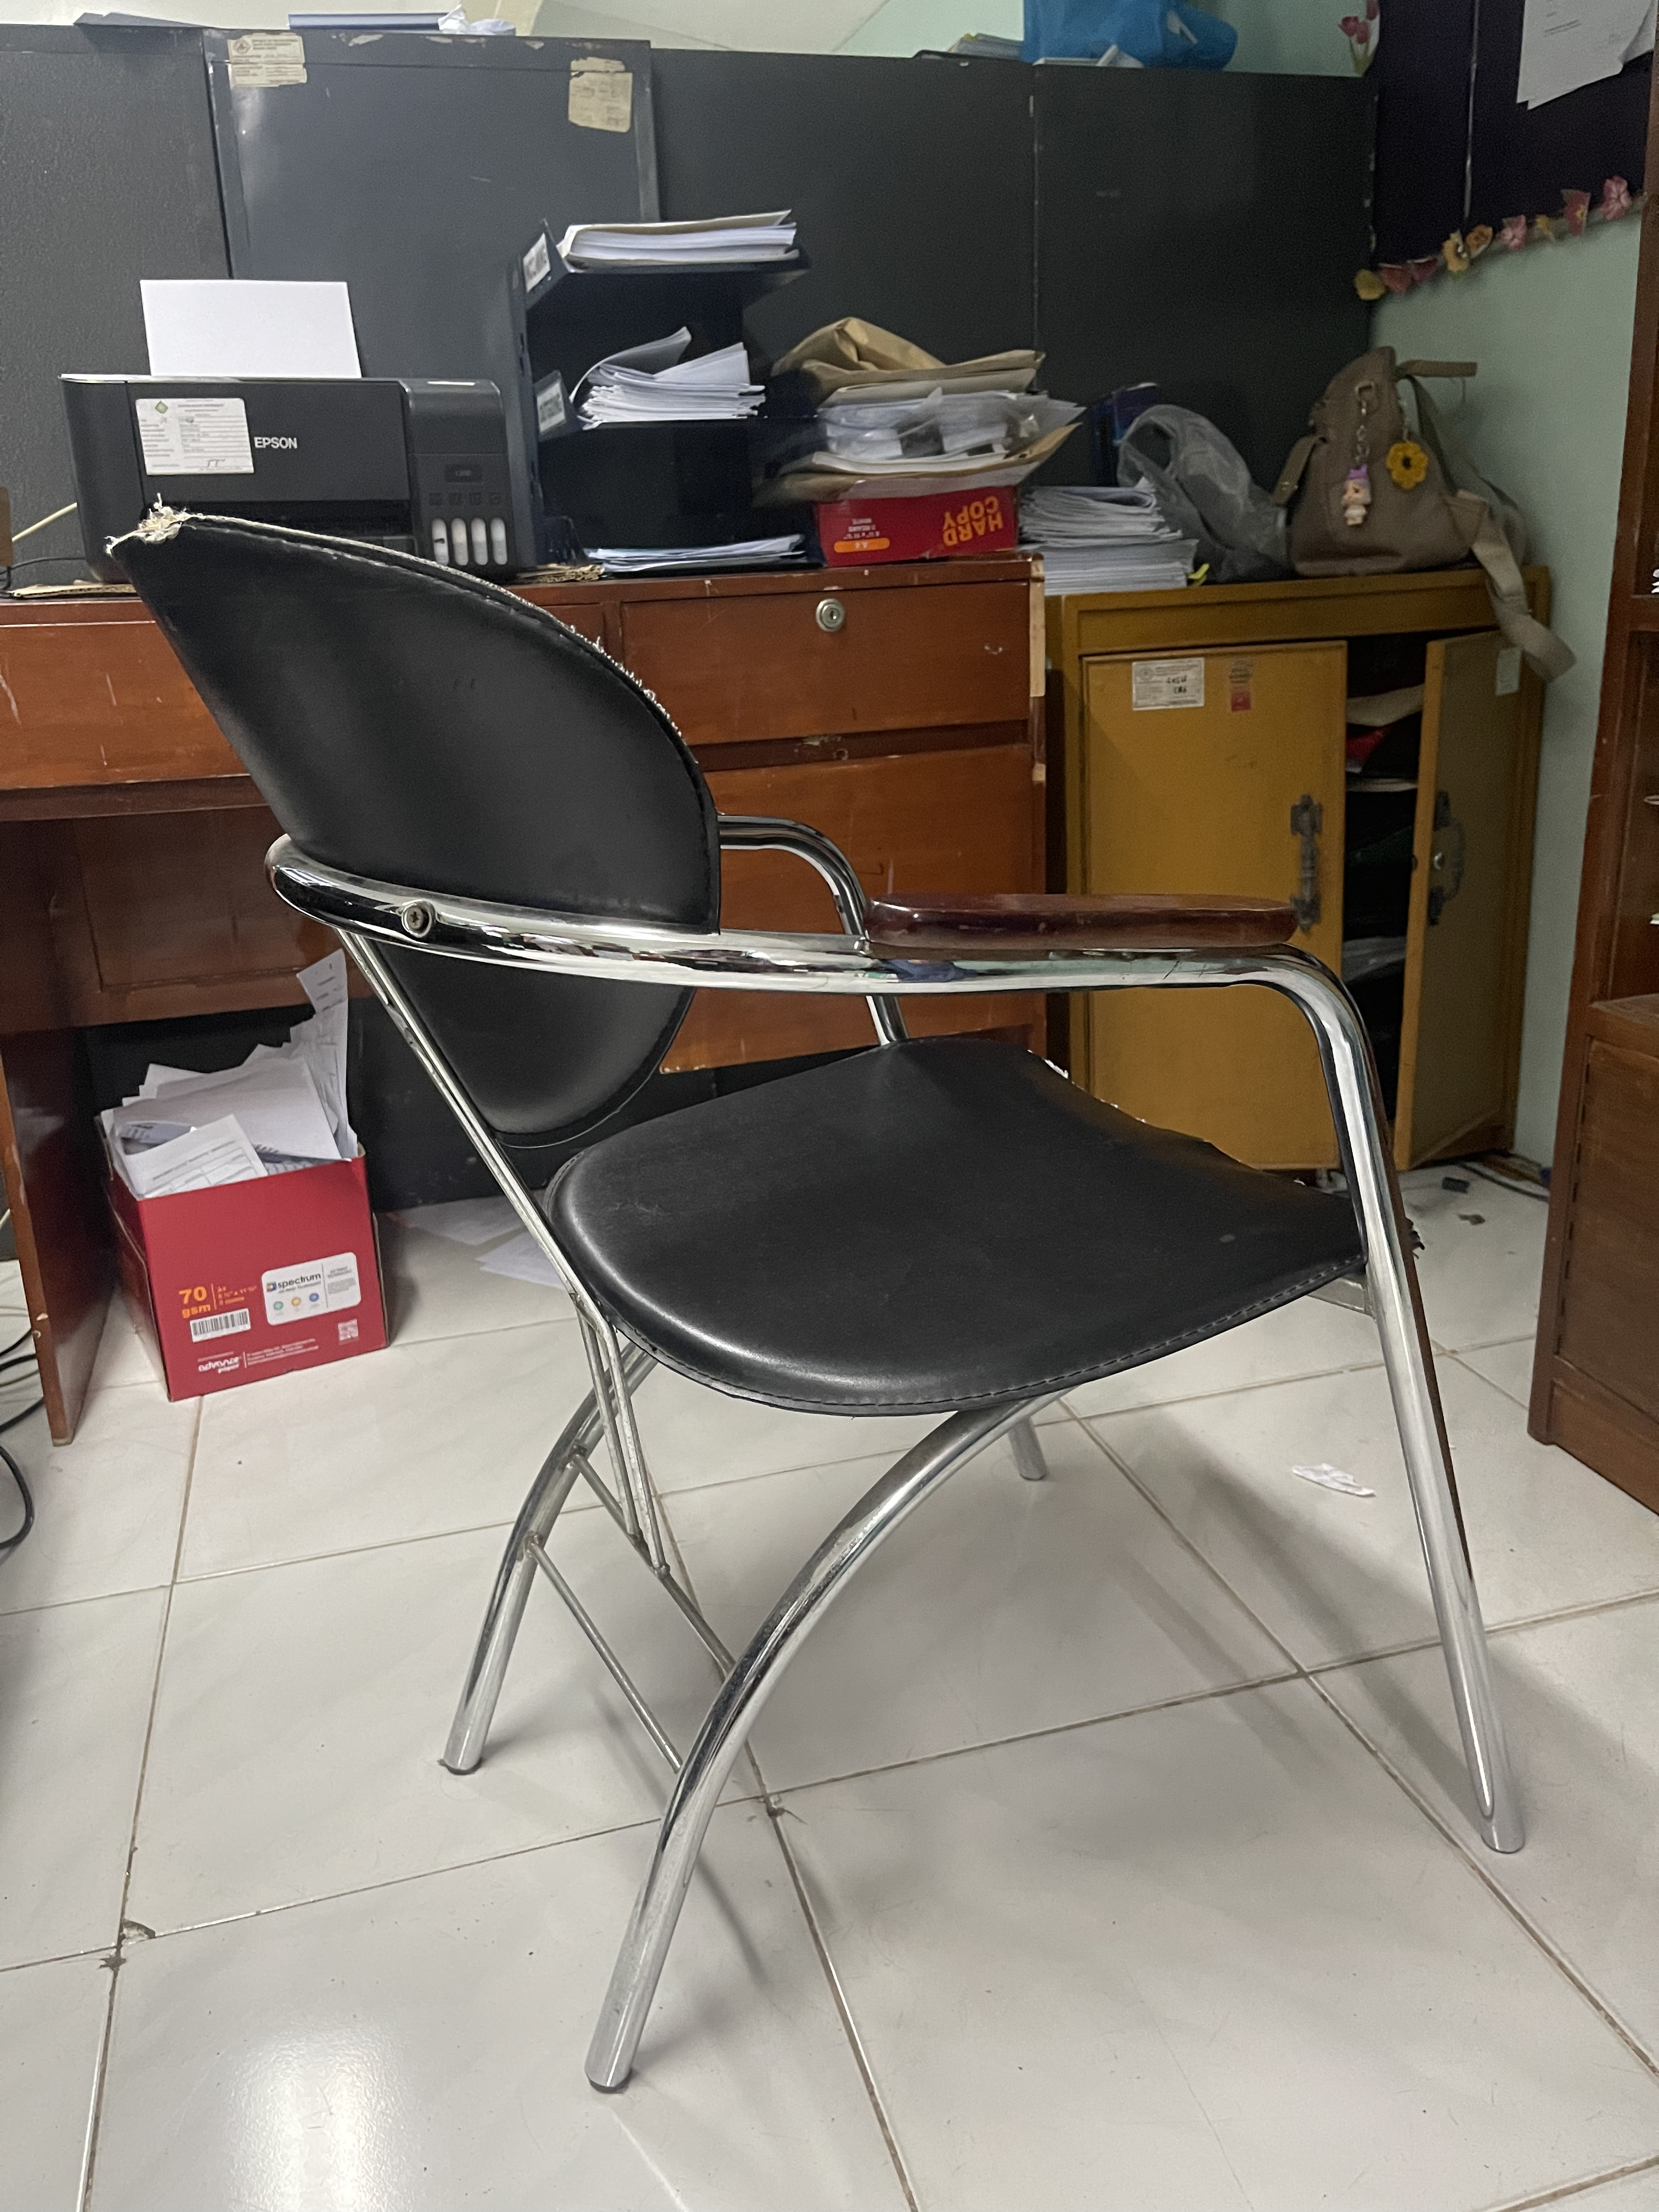chair1: (94, 505, 1547, 2099)
